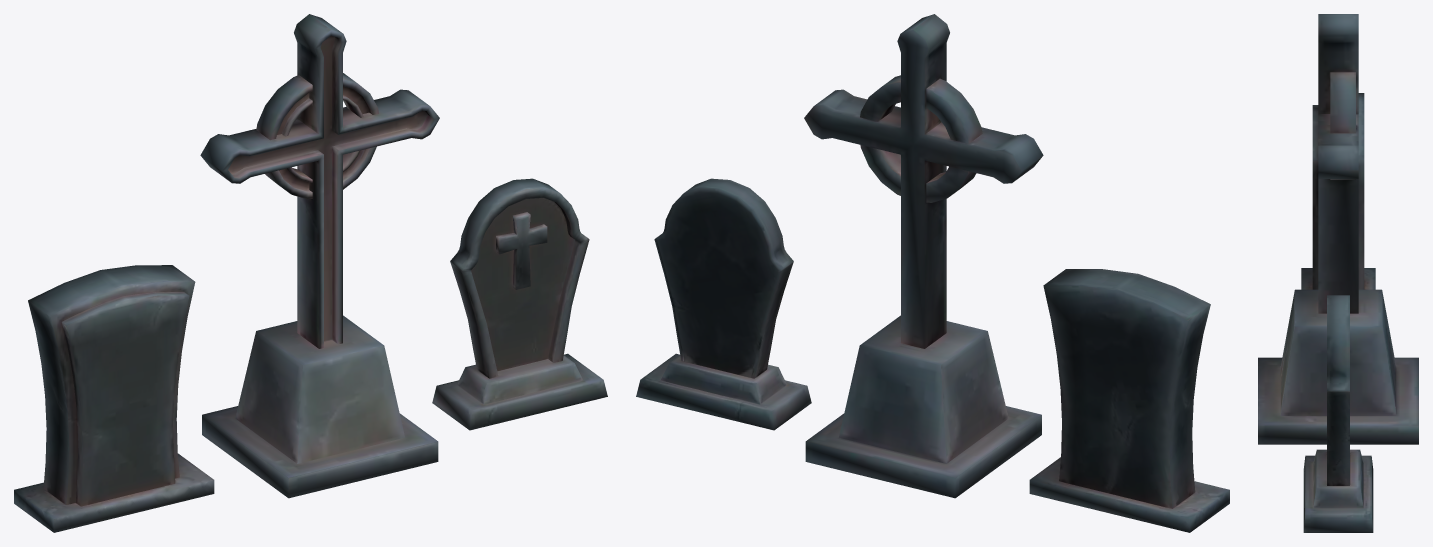
File: lapidas.glb
The picture shows the model from 3 angles, left to right: view 1: azimuth 30°, elevation 25°; view 2: azimuth 150°, elevation 25°; view 3: azimuth 270°, elevation 25°; orthographic projection. The views are drawn at different scales.
Visible parts, largest first — view 1: Box004, Box001, Box002, Gravestone_1, defaultMaterial (×2), Box005, Cylinder001; view 2: Box004, Box001, Box002, Gravestone_1, defaultMaterial, Cylinder001, Box005; view 3: Box001, Box002, defaultMaterial, Gravestone_1, Box004, Cylinder001, Box005.
Boxes of the visible parts, x1,y1,x2,y2 form: Box004: (28,265,195,506); Box001: (202,315,438,498); Box002: (200,14,439,348); Gravestone_1: (450,178,589,378); defaultMaterial (×2): (432,212,607,430); Box005: (14,453,214,532); Cylinder001: (256,73,378,199); Box004: (1043,269,1210,508); Box001: (805,315,1041,498); Box002: (804,14,1043,348); Gravestone_1: (654,178,793,378); defaultMaterial: (636,353,811,430); Cylinder001: (860,75,982,202); Box005: (1029,457,1229,532); Box001: (1258,289,1418,444); Box002: (1318,14,1358,313); defaultMaterial: (1303,449,1373,532); Gravestone_1: (1327,295,1349,485); Box004: (1312,93,1364,289); Cylinder001: (1330,72,1355,179); Box005: (1301,268,1375,289).
Bounding box in the file's own units: 198 × 145 × 53.29.
3 materials, 3 textured.
